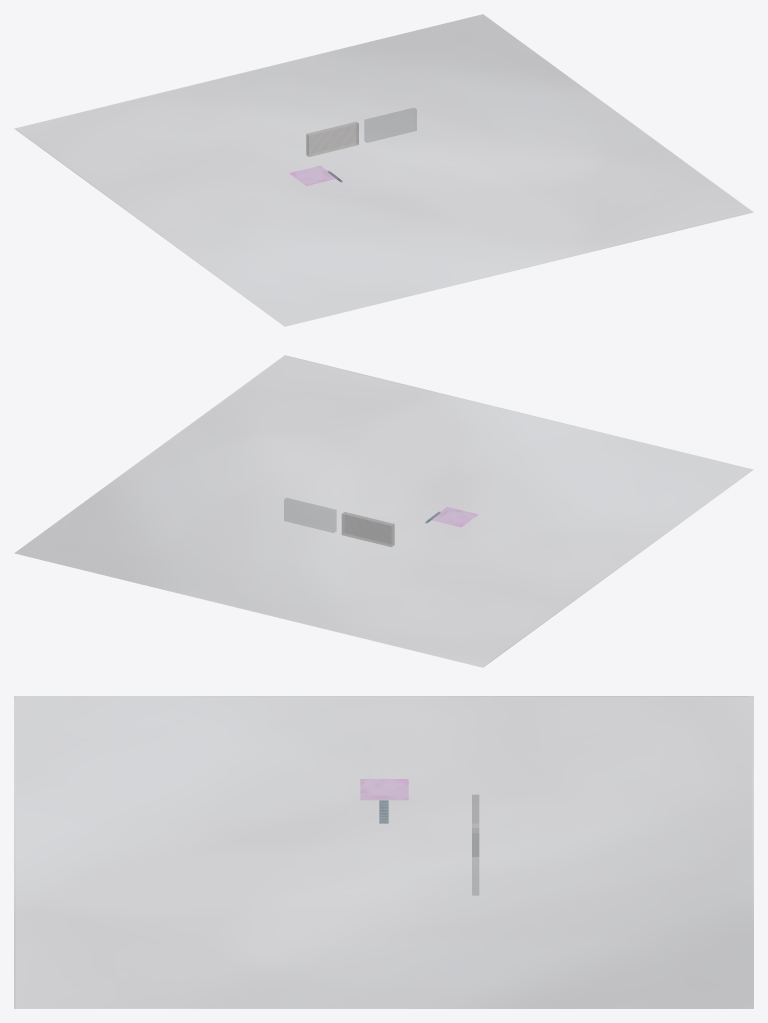
Rendered from StartScenePrev2.obj.
The picture shows the model from 3 angles, top to bottom: view 1: azimuth 30°, elevation 25°; view 2: azimuth 150°, elevation 25°; view 3: azimuth 270°, elevation 25°; orthographic projection. The views are drawn at different scales.
Visible parts, largest first — view 1: Bake; view 2: Bake; view 3: Bake.
Part boxes in pixels (left/top/right/bottom): Bake: left=15, top=14, right=752, bottom=326; Bake: left=15, top=355, right=752, bottom=667; Bake: left=14, top=696, right=753, bottom=1008.
Size of the model in its own units: 200 by 8.77 by 200.
